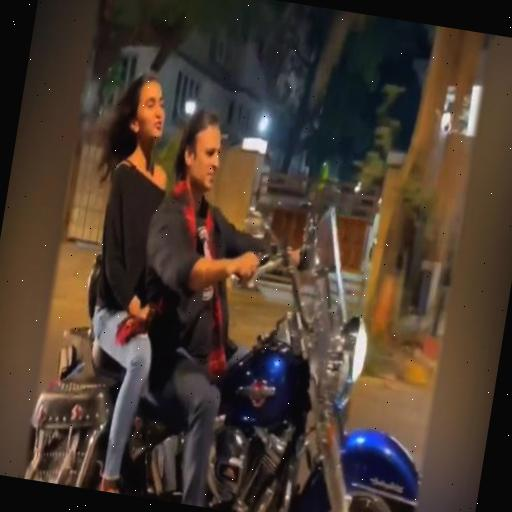no helmet: (110, 79, 476, 512)
